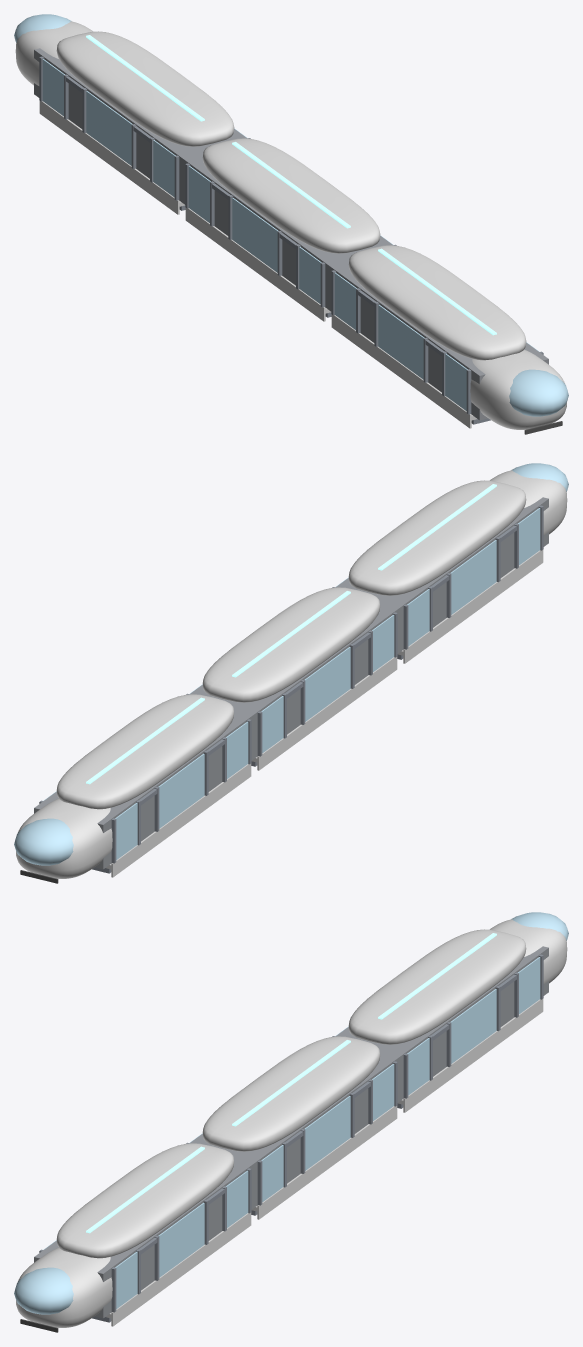
Rendered from Zug.fbx.
The picture shows the model from 3 angles, top to bottom: view 1: azimuth 30°, elevation 25°; view 2: azimuth 150°, elevation 25°; view 3: azimuth 330°, elevation 25°; orthographic projection.
Parts seen in each view (by area): view 1: Zug, Fahrgastraum; view 2: Zug, Fahrgastraum; view 3: Zug, Fahrgastraum.
Boxes of the visible parts, x1=… form: Zug: x1=14, y1=14, x2=568, y2=434; Fahrgastraum: x1=34, y1=48, x2=548, y2=420; Zug: x1=14, y1=463, x2=568, y2=883; Fahrgastraum: x1=34, y1=497, x2=548, y2=869; Zug: x1=14, y1=912, x2=568, y2=1332; Fahrgastraum: x1=34, y1=946, x2=548, y2=1318.
Size of the model in its own units: 565 by 583 by 6820.
